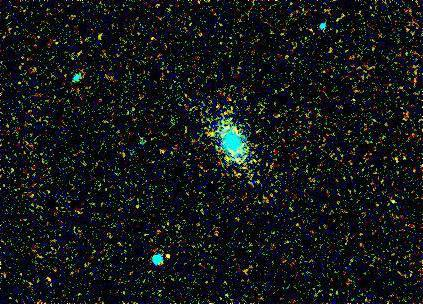star: (153, 243, 183, 273)
